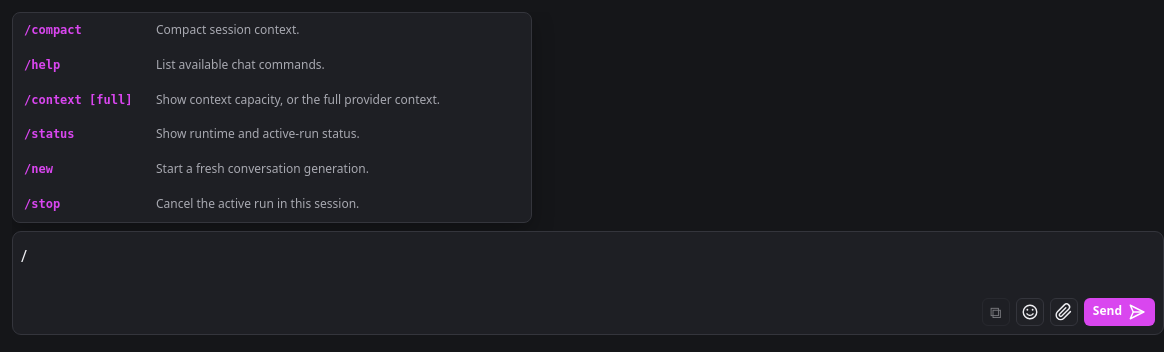
chat command autocomplete › navigates options with active descendant and Escape without submitting
The width and height of the screenshot is (1164, 352).
Press End in the text box named "Message", box x1=21 y1=244 x2=1155 y2=298
Press Home in the text box named "Message", box x1=21 y1=244 x2=1155 y2=298
Press Enter in the text box named "Message", box x1=21 y1=244 x2=1155 y2=298
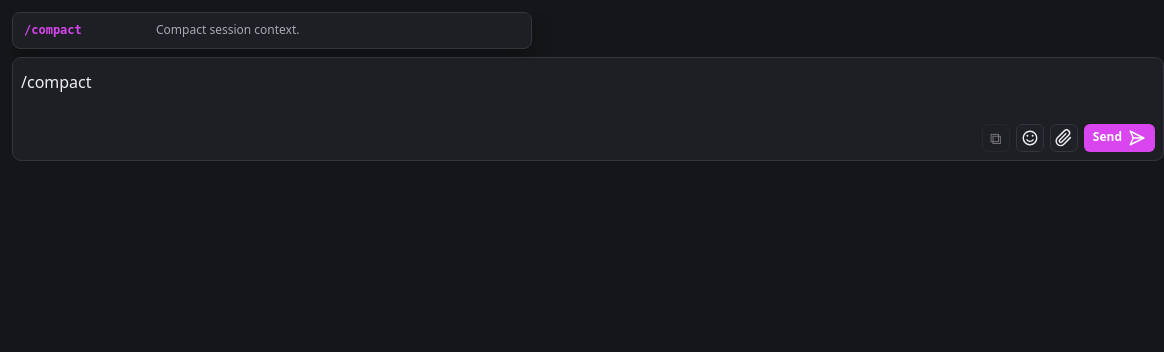
Expected: the text box named "Message" does not hold "/"
Replace the text in the text box named "Message" with "/" at (588, 97), box x1=21 y1=70 x2=1155 y2=124
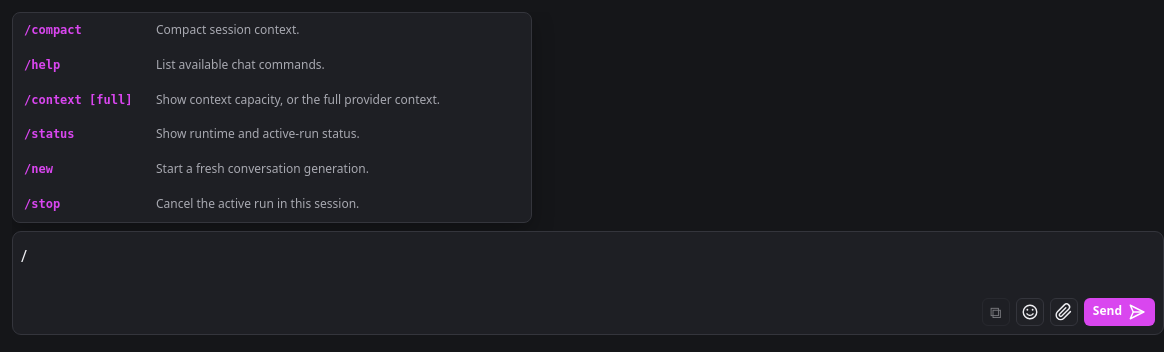
Press Escape in the text box named "Message", box x1=21 y1=244 x2=1155 y2=298
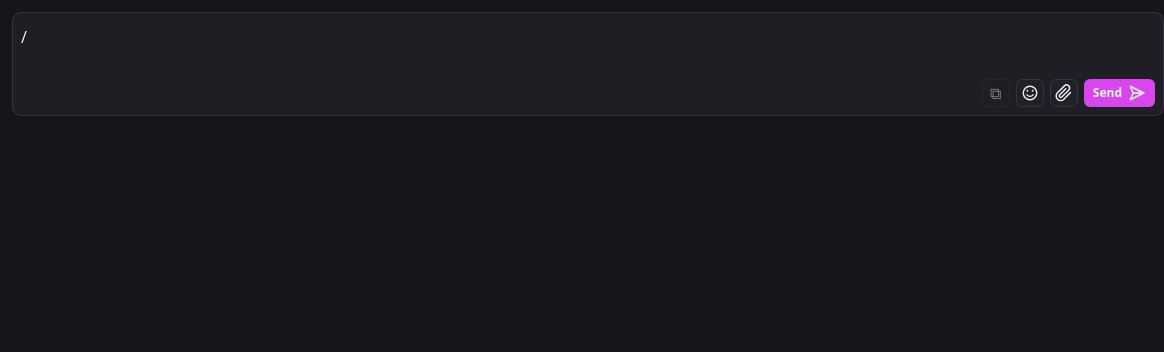
Expected: the list is gone
